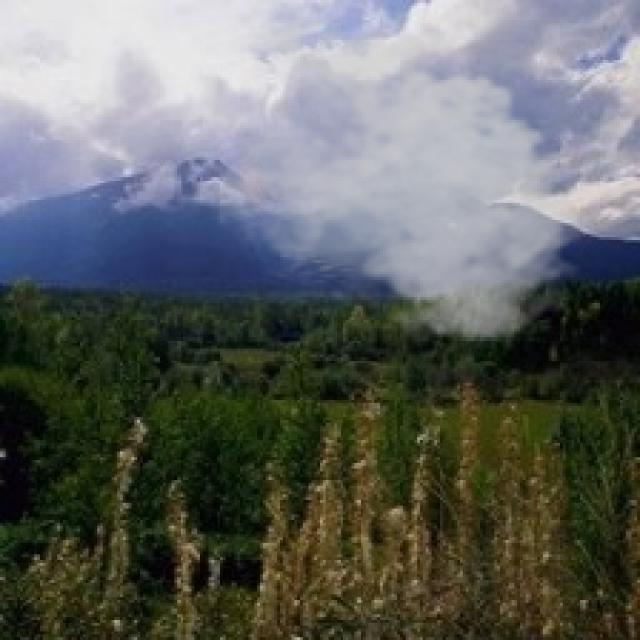Smoke: (214, 6, 597, 348)
